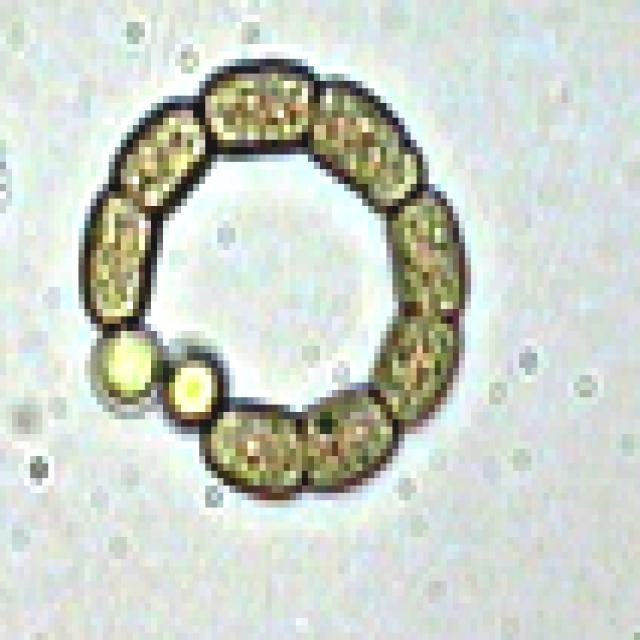Blue Green Algae: (308, 74, 423, 206), (193, 397, 308, 508), (386, 184, 477, 316), (296, 382, 404, 493), (199, 52, 314, 154), (109, 96, 205, 206), (78, 191, 157, 324), (368, 309, 453, 427)
